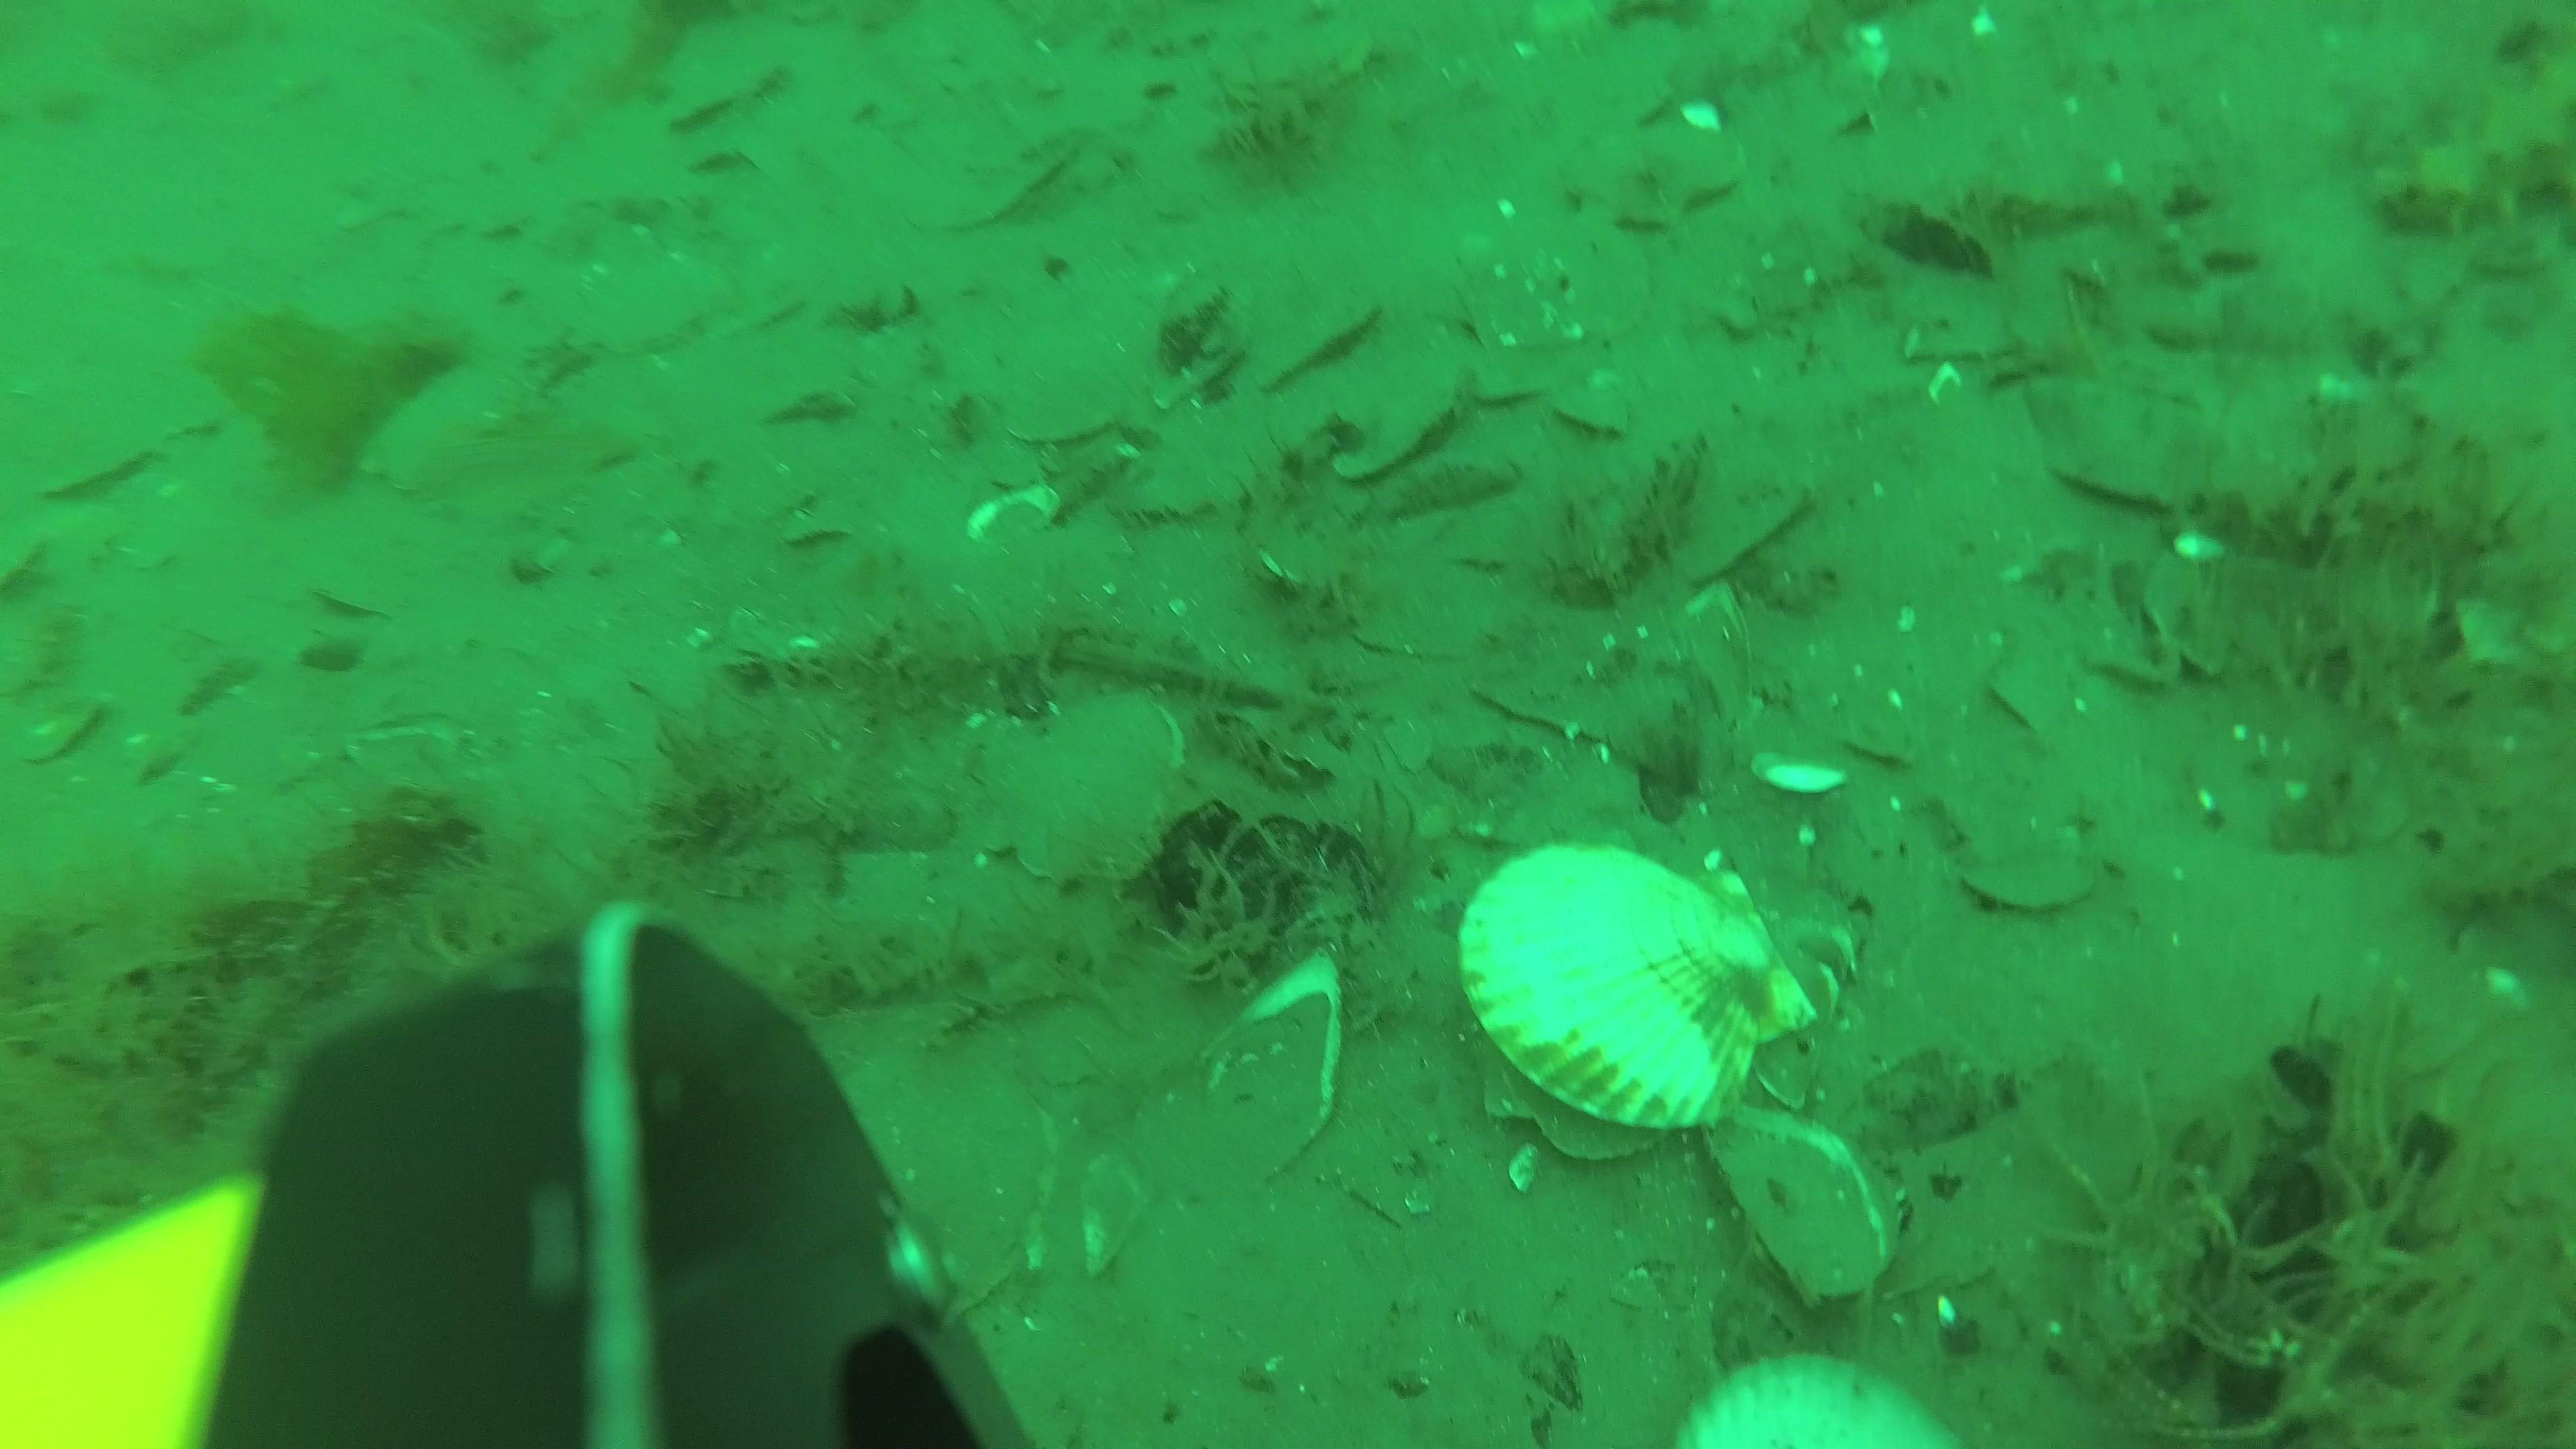scallop: (1454, 844, 1824, 1145), (970, 676, 1191, 895), (1470, 202, 1660, 357), (1569, 110, 1748, 241), (1219, 278, 1375, 402), (1332, 347, 1470, 472), (375, 372, 533, 481), (996, 329, 1143, 441), (577, 264, 729, 357), (1962, 840, 2104, 931), (1548, 356, 1642, 437), (1463, 352, 1548, 409)
